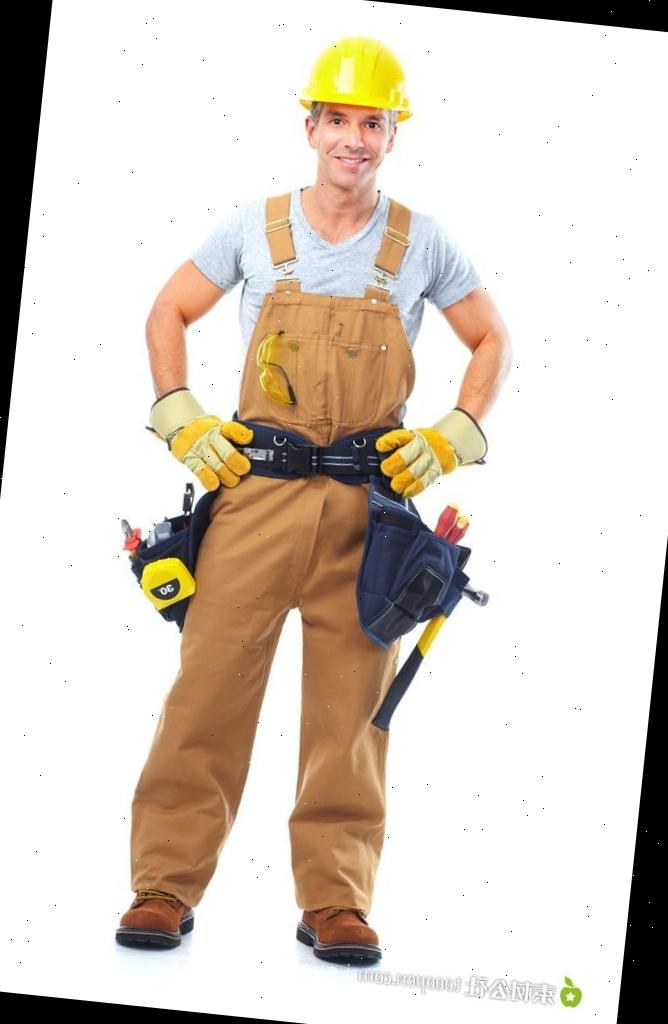helmet: (292, 31, 419, 129)
no_wear: (224, 176, 448, 462)
